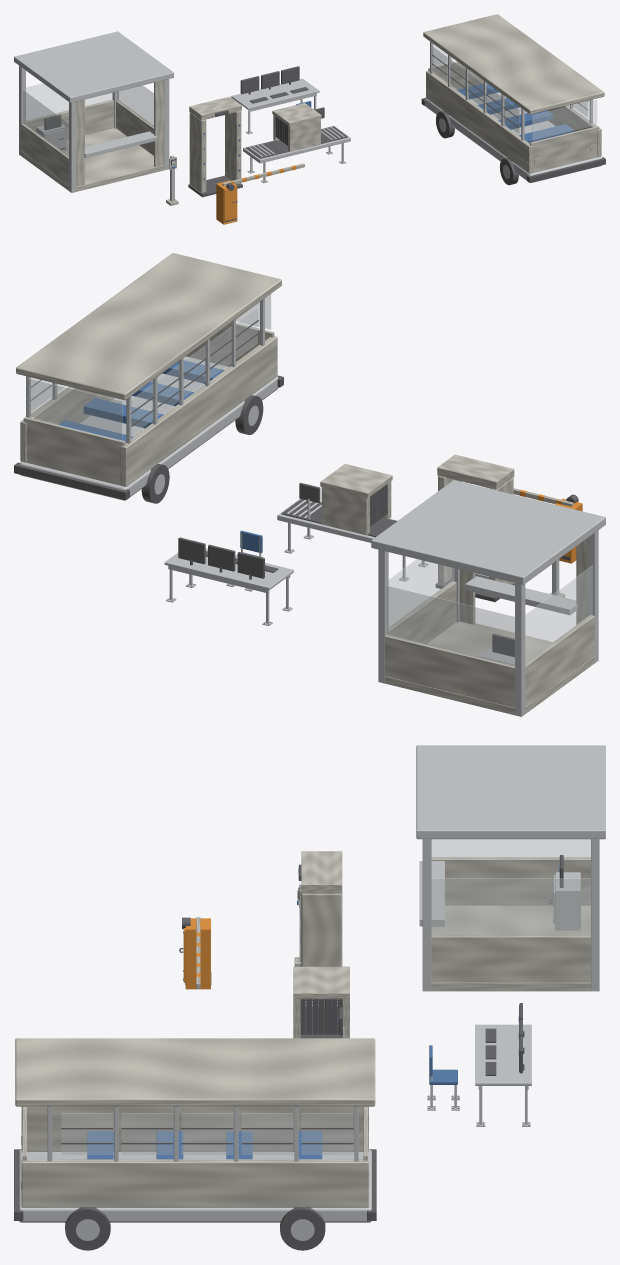
Rendered from prison-complex-builder-security-intake-cc4df8fc__25723.glb.
The picture shows the model from 3 angles, top to bottom: view 1: azimuth 30°, elevation 25°; view 2: azimuth 150°, elevation 25°; view 3: azimuth 270°, elevation 25°; orthographic projection. The views are drawn at different scales.
Visible parts, largest first — view 1: 006-prisoner-transport-bus-shell/1, 004-gatehouse/1, 006-prisoner-transport-bus-shell/2, 004-gatehouse/2, 006-prisoner-transport-bus-shell/3, 004-gatehouse/3, 000-walk-through-metal-detector/1, 004-gatehouse/0, 006-prisoner-transport-bus-shell/0, 001-x-ray-conveyor-belt/3, 006-prisoner-transport-bus-shell/13, 002-control-room-desk/0 (+12 smaller); view 2: 004-gatehouse/1, 006-prisoner-transport-bus-shell/1, 006-prisoner-transport-bus-shell/2, 004-gatehouse/2, 004-gatehouse/3, 006-prisoner-transport-bus-shell/3, 006-prisoner-transport-bus-shell/0, 004-gatehouse/0, 001-x-ray-conveyor-belt/3, 006-prisoner-transport-bus-shell/13, 002-control-room-desk/0, 000-walk-through-metal-detector/1 (+7 smaller); view 3: 006-prisoner-transport-bus-shell/2, 006-prisoner-transport-bus-shell/1, 004-gatehouse/1, 004-gatehouse/2, 004-gatehouse/3, 006-prisoner-transport-bus-shell/3, 006-prisoner-transport-bus-shell/0, 004-gatehouse/0, 000-walk-through-metal-detector/1, 002-control-room-desk/0, 006-prisoner-transport-bus-shell/13, 001-x-ray-conveyor-belt/3 (+7 smaller).
Part boxes in pixels (bbox=[...]): 006-prisoner-transport-bus-shell/1: bbox=[423, 14, 604, 164]; 004-gatehouse/1: bbox=[14, 31, 173, 192]; 006-prisoner-transport-bus-shell/2: bbox=[426, 61, 601, 173]; 004-gatehouse/2: bbox=[21, 80, 164, 186]; 006-prisoner-transport-bus-shell/3: bbox=[432, 44, 596, 140]; 004-gatehouse/3: bbox=[23, 83, 153, 156]; 000-walk-through-metal-detector/1: bbox=[189, 96, 241, 193]; 004-gatehouse/0: bbox=[21, 128, 164, 191]; 006-prisoner-transport-bus-shell/0: bbox=[425, 41, 601, 182]; 001-x-ray-conveyor-belt/3: bbox=[272, 103, 321, 151]; 006-prisoner-transport-bus-shell/13: bbox=[457, 83, 573, 143]; 002-control-room-desk/0: bbox=[231, 78, 319, 134]; 004-gatehouse/1: bbox=[371, 480, 605, 716]; 006-prisoner-transport-bus-shell/1: bbox=[16, 253, 281, 400]; 006-prisoner-transport-bus-shell/2: bbox=[20, 323, 277, 486]; 004-gatehouse/2: bbox=[385, 537, 594, 707]; 004-gatehouse/3: bbox=[386, 559, 592, 666]; 006-prisoner-transport-bus-shell/3: bbox=[27, 294, 270, 438]; 006-prisoner-transport-bus-shell/0: bbox=[19, 298, 278, 500]; 004-gatehouse/0: bbox=[385, 621, 594, 715]; 001-x-ray-conveyor-belt/3: bbox=[320, 464, 392, 535]; 006-prisoner-transport-bus-shell/13: bbox=[58, 360, 224, 442]; 002-control-room-desk/0: bbox=[164, 533, 293, 625]; 000-walk-through-metal-detector/1: bbox=[437, 454, 514, 584]; 006-prisoner-transport-bus-shell/2: bbox=[21, 1106, 368, 1207]; 006-prisoner-transport-bus-shell/1: bbox=[15, 1038, 375, 1189]; 004-gatehouse/1: bbox=[416, 745, 605, 991]; 004-gatehouse/2: bbox=[431, 857, 590, 982]; 004-gatehouse/3: bbox=[432, 839, 590, 935]; 006-prisoner-transport-bus-shell/3: bbox=[24, 1107, 365, 1154]; 006-prisoner-transport-bus-shell/0: bbox=[18, 1106, 371, 1222]; 004-gatehouse/0: bbox=[431, 905, 590, 991]; 000-walk-through-metal-detector/1: bbox=[301, 851, 342, 966]; 002-control-room-desk/0: bbox=[427, 1024, 531, 1126]; 006-prisoner-transport-bus-shell/13: bbox=[87, 1131, 322, 1159]; 001-x-ray-conveyor-belt/3: bbox=[293, 966, 349, 1038].
Bounding box in the file's own units: 12.81 × 2.86 × 9.37.
Materials: 6 (1 with a texture image).
